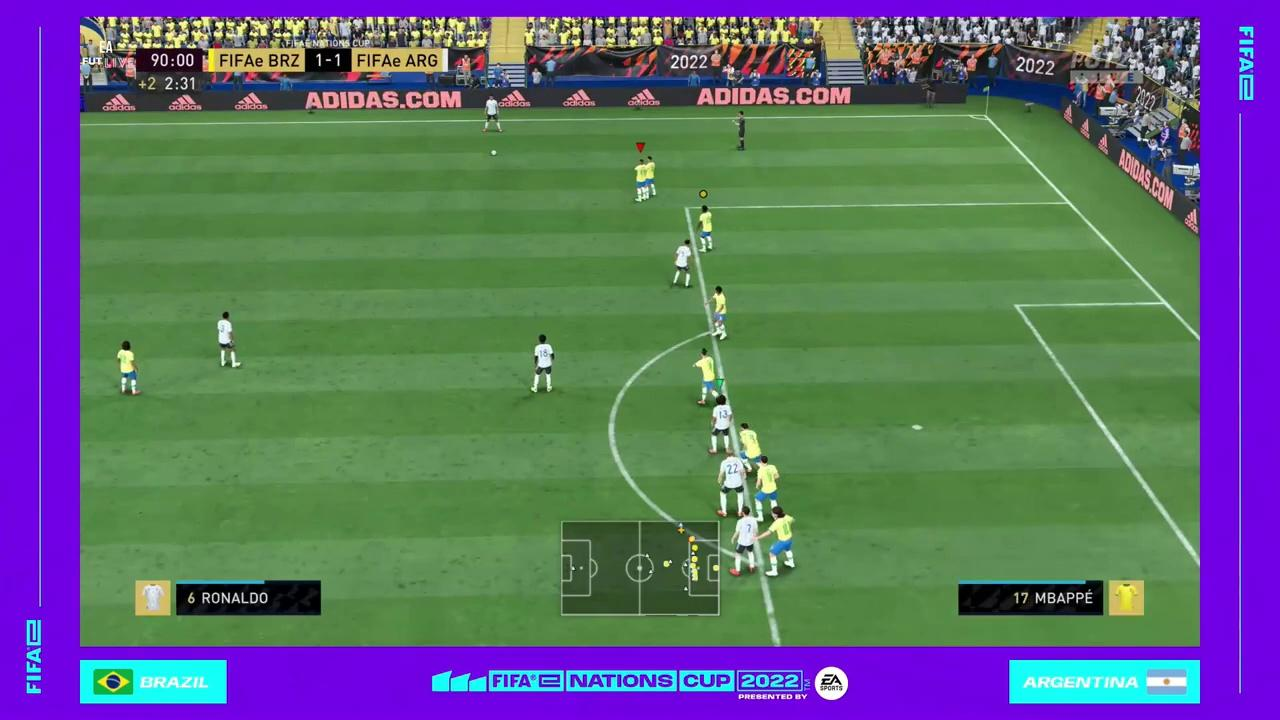scoreboard: (210, 45, 450, 73)
timestamp: (130, 46, 205, 97)
